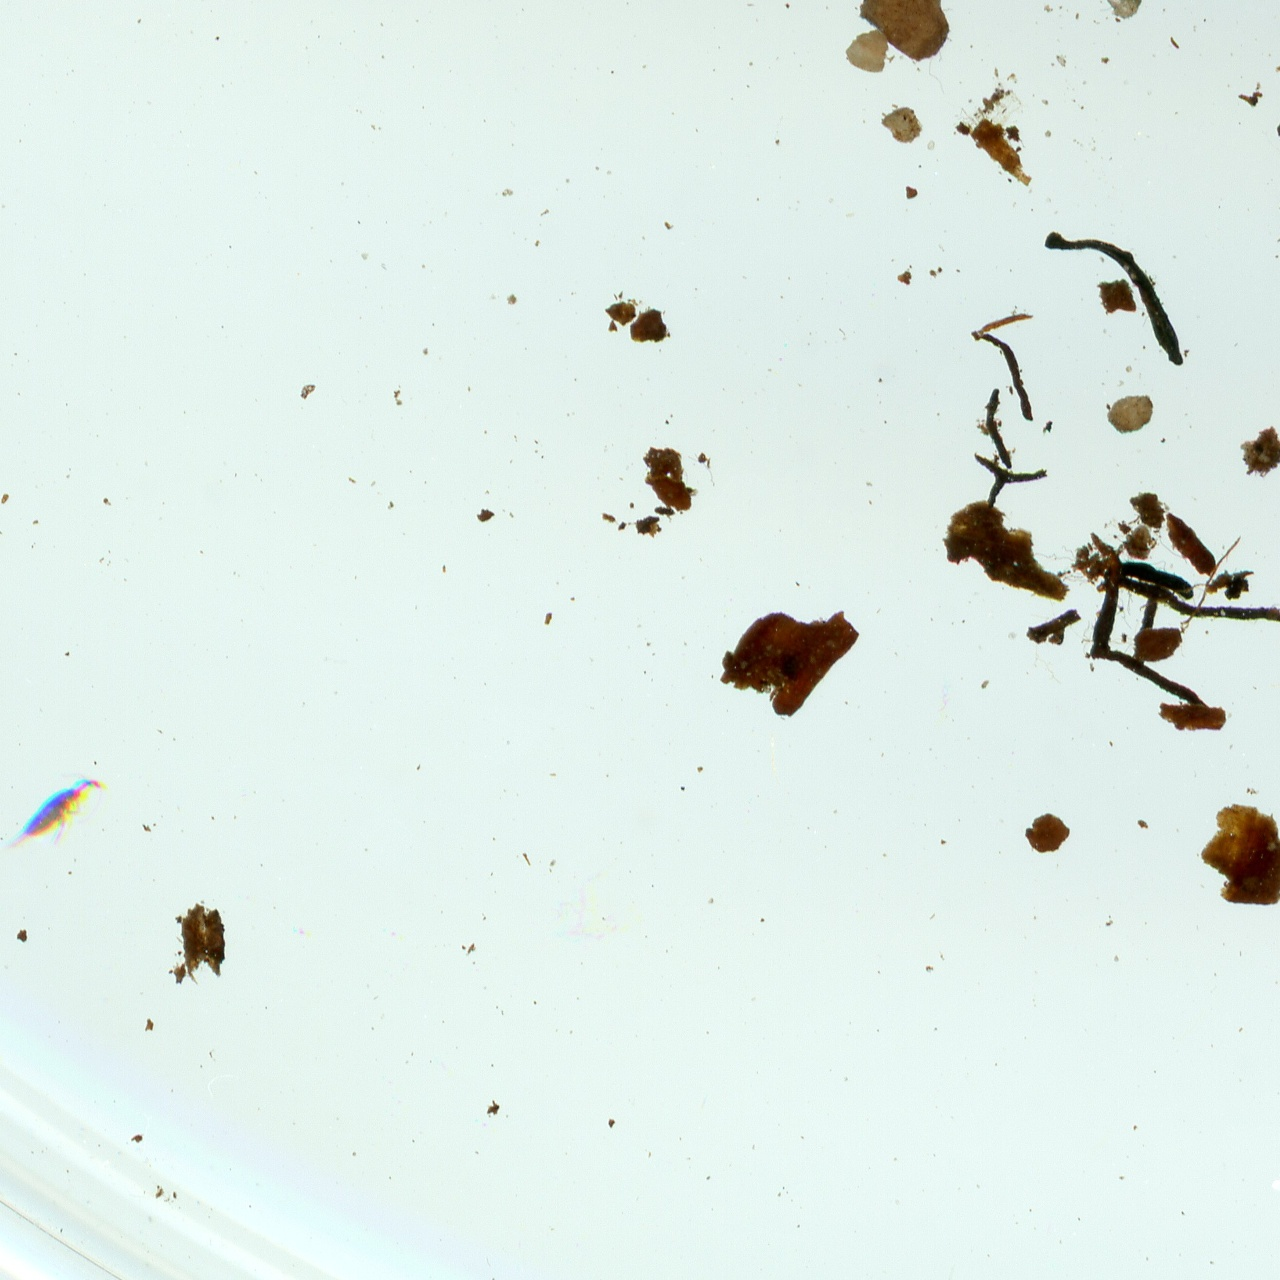arthropod: (0, 756, 122, 886)
